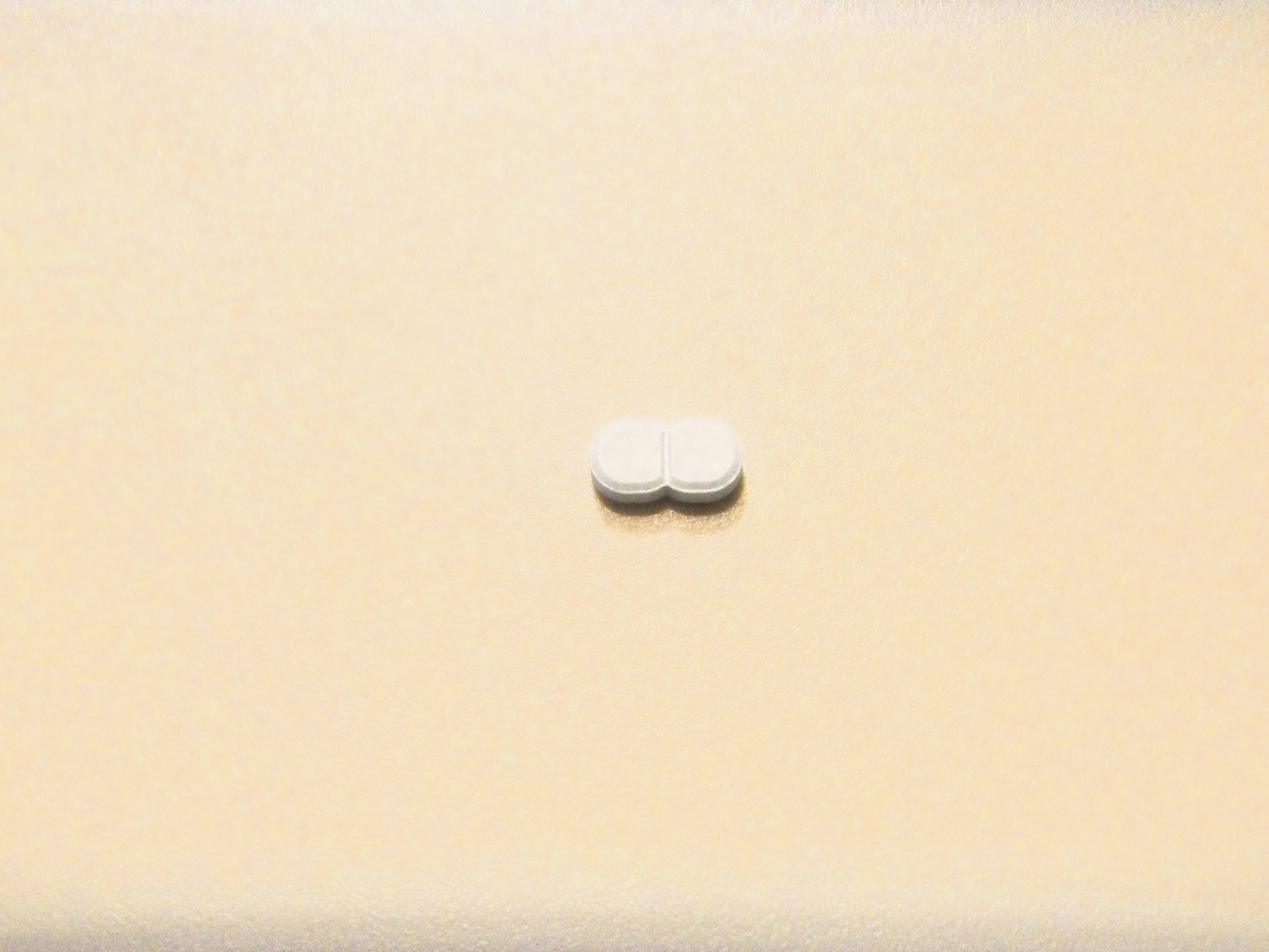Pill: (562, 404, 765, 537)
